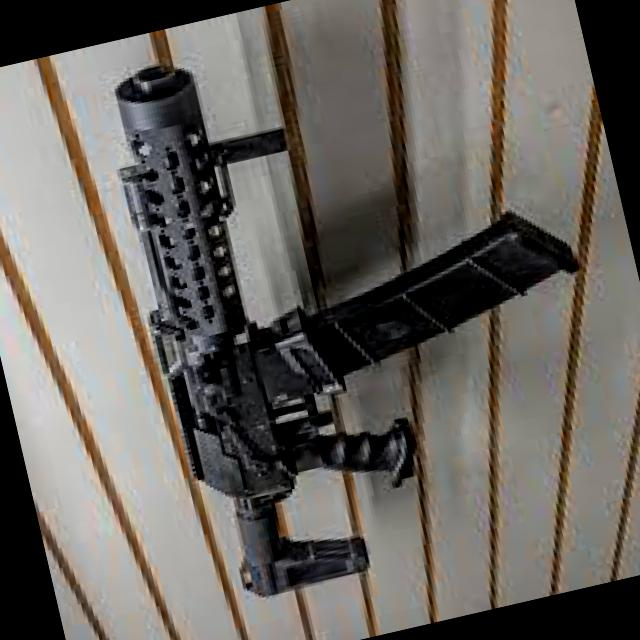long weapon: (66, 63, 576, 621)
